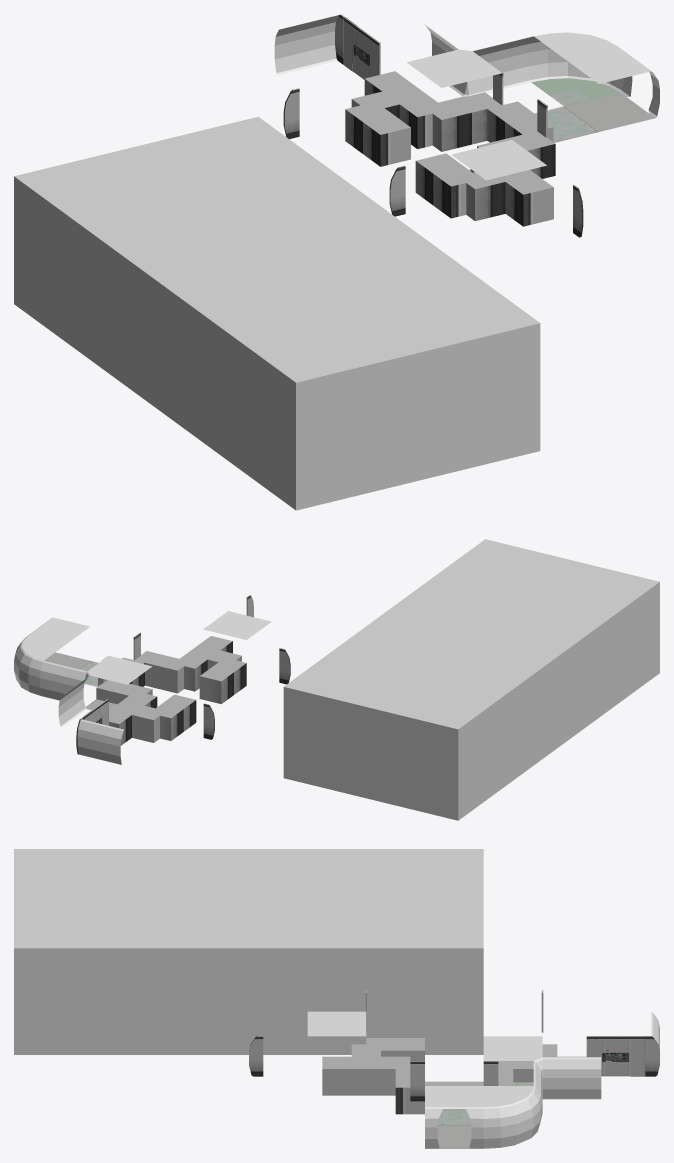
Rendered from broken.glb.
The picture shows the model from 3 angles, top to bottom: view 1: azimuth 30°, elevation 25°; view 2: azimuth 150°, elevation 25°; view 3: azimuth 270°, elevation 25°; orthographic projection. The views are drawn at different scales.
Visible parts, largest first — view 1: $Spawn, WallOuter, Wall Outer Corner, Roof4x4, RoofWallOuterCorner, Wall Inner2.006, Wall Inner2.018, FloorWallOuter, RoofWallOuter, Wall Inner2.002, Wall Outer Bend, Wall Inner2.013 (+15 smaller); view 2: $Spawn, Wall Outer Corner, WallOuter, Roof4x4, RoofWallOuterCorner, Wall Inner2.015, Wall Outer Bend, RoofWallOuter, Wall Inner2.012, Wall Inner2.003, Wall Inner2.019, Wall Inner2.004 (+7 smaller); view 3: $Spawn, Wall Outer Corner, Wall Outer Bend, Wall Inner Door, Roof4x4, RoofWallOuterCorner, Wall Outer Open, RoofWallOuter, Wall Inner2.006, Wall Inner2.005, RoofWallOuterBend, Wall Inner2.010 (+7 smaller).
Part boxes in pixels (box(x1,y1,x2,y2)): $Spawn: box(14, 116, 540, 510); WallOuter: box(274, 15, 338, 75); Wall Outer Corner: box(424, 24, 532, 96); Roof4x4: box(451, 140, 546, 180); RoofWallOuterCorner: box(407, 49, 502, 87); Wall Inner2.006: box(505, 174, 553, 226); Wall Inner2.018: box(363, 114, 410, 166); FloorWallOuter: box(564, 92, 654, 131); RoofWallOuter: box(564, 45, 650, 83); Wall Inner2.002: box(424, 99, 471, 151); Wall Outer Bend: box(528, 36, 624, 91); Wall Inner2.013: box(458, 172, 505, 221); $Spawn: box(283, 539, 659, 820); Wall Outer Corner: box(40, 661, 89, 727); WallOuter: box(77, 719, 123, 764); Roof4x4: box(203, 611, 271, 639); RoofWallOuterCorner: box(87, 656, 151, 684); Wall Inner2.015: box(199, 667, 233, 704); Wall Outer Bend: box(14, 636, 43, 696); RoofWallOuter: box(28, 617, 89, 644); Wall Inner2.012: box(132, 705, 165, 742); Wall Inner2.003: box(156, 656, 189, 693); Wall Inner2.019: box(153, 704, 183, 740); Wall Inner2.004: box(180, 654, 207, 691); $Spawn: box(14, 849, 483, 1054); Wall Outer Corner: box(533, 1057, 601, 1102); Wall Outer Bend: box(483, 1086, 542, 1148); Wall Inner Door: box(586, 1036, 645, 1076); Roof4x4: box(307, 1011, 366, 1036); RoofWallOuterCorner: box(483, 1036, 542, 1060); Wall Outer Open: box(425, 1107, 483, 1148); RoofWallOuter: box(425, 1086, 483, 1106); Wall Inner2.006: box(322, 1056, 351, 1095); Wall Inner2.005: box(351, 1056, 380, 1095); RoofWallOuterBend: box(483, 1086, 533, 1106); Wall Inner2.010: box(395, 1075, 424, 1114).
Bounding box in the file's own units: 40 × 8 × 44.
4 materials, 3 textured.
